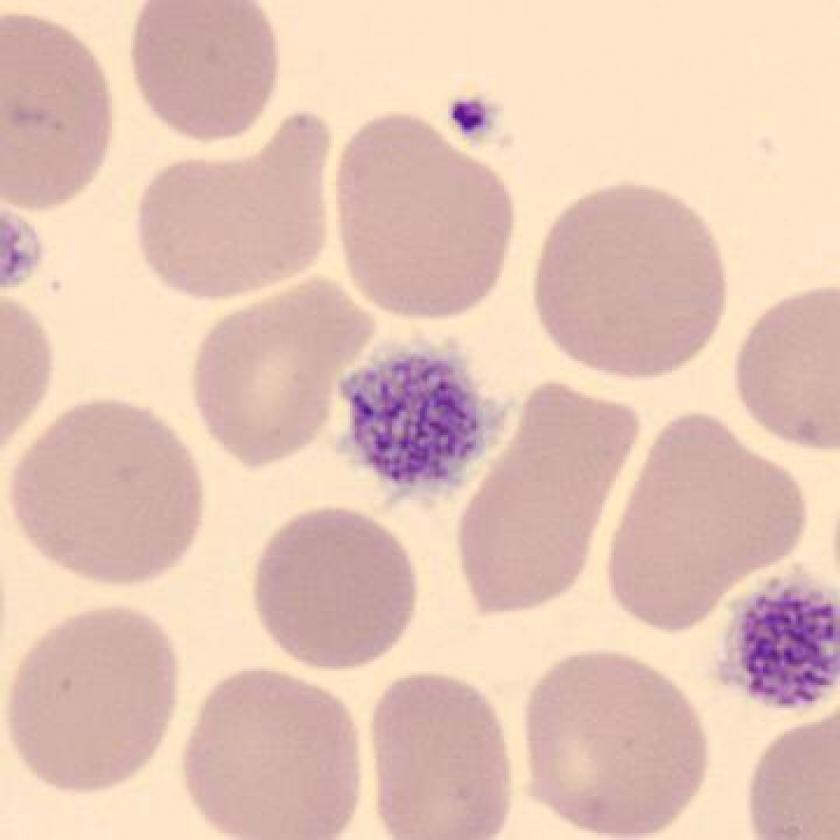platelets: (321, 321, 524, 520), (703, 554, 840, 723), (430, 82, 510, 156)
